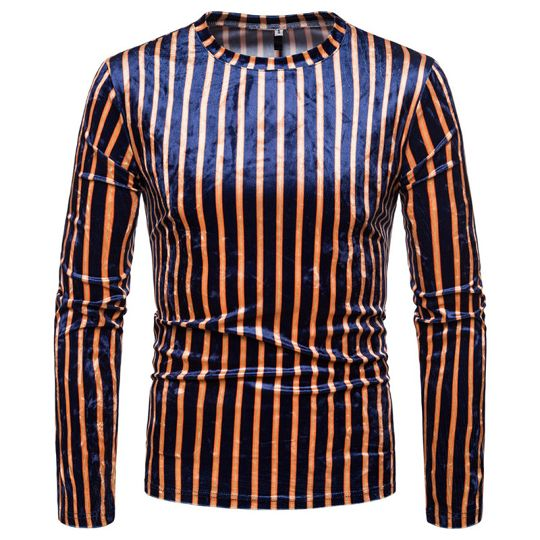striped: (49, 6, 502, 536)
